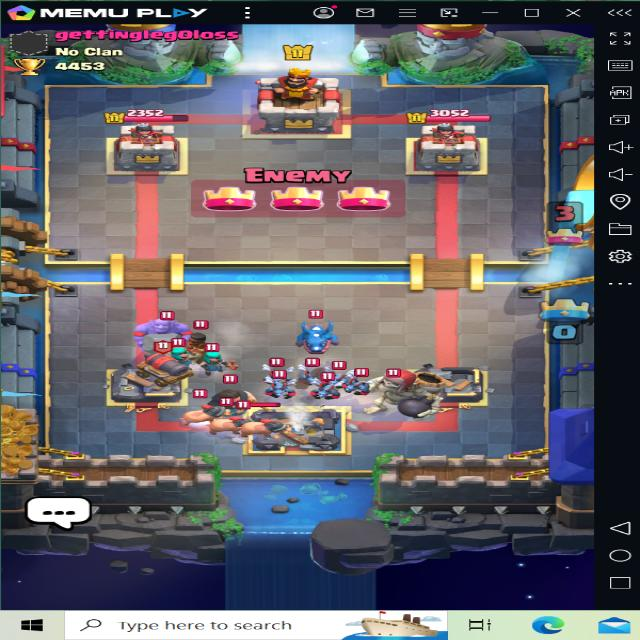Bowler: (128, 302, 210, 361)
Cannoncart: (146, 340, 190, 381)
Edragon: (285, 311, 358, 360)
Giantskeleton: (358, 351, 453, 416)
Minions: (259, 374, 297, 399), (344, 370, 375, 398), (320, 375, 346, 403), (264, 356, 294, 379), (299, 356, 321, 384), (324, 370, 352, 385)
Ramrider: (178, 319, 221, 370)
Rascalboy: (193, 379, 261, 422)
Rascalgirl: (202, 342, 238, 368), (170, 342, 196, 362)
Royalhogs: (197, 412, 260, 432), (248, 411, 291, 436), (184, 405, 226, 427)
